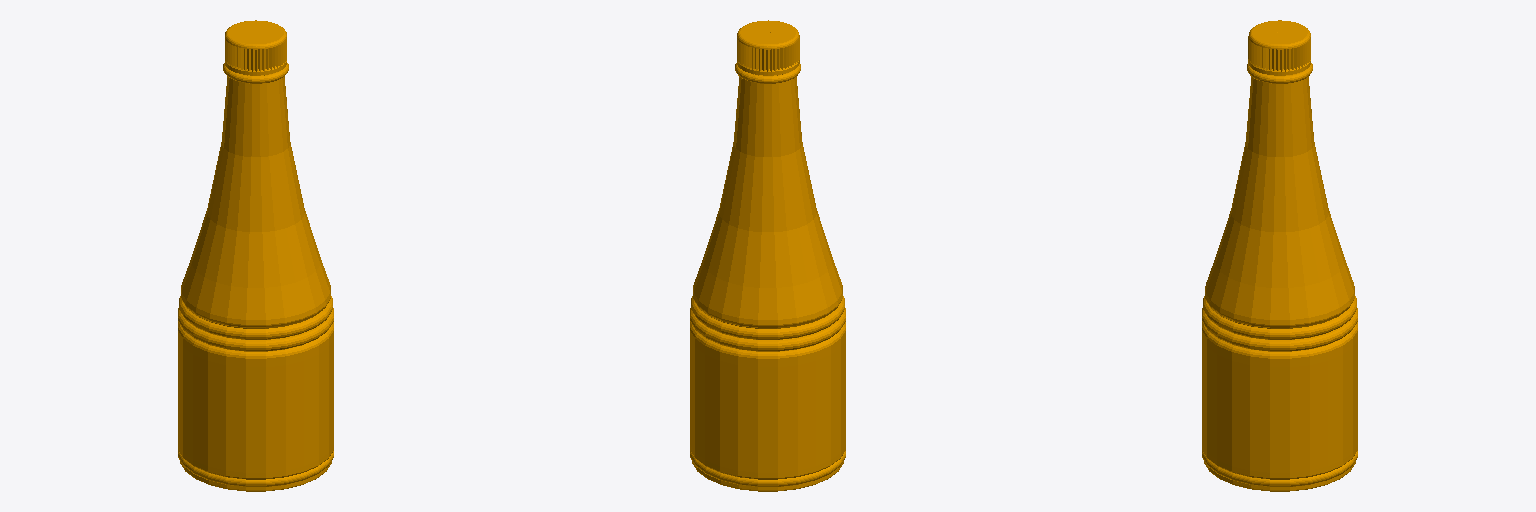
The robot description file, URDF, robot "obj_10":
<?xml version="1.0"?>
<robot name="obj_10">
  <link name="obj_10">
    <visual>
      <origin xyz="0.0 0.0 0.0" rpy="0 0 0"/>
      <geometry>
        <mesh filename="../mesh/ncf_mug_cupholder/obj_assets/10/obj_collision.obj" scale="1 1 1"/>
      </geometry>
    </visual>
    <collision>
      <origin xyz="0.0 0.0 0.0" rpy="0 0 0"/>
      <geometry>
        <mesh filename="../mesh/ncf_mug_cupholder/obj_assets/10/obj_collision.obj" scale="1 1 1"/>
      </geometry>
      <sdf resolution="512"/>
    </collision >    
    <inertial>
      <mass value="0.102"/>
      <inertia ixx="0.0001" ixy="0.0" ixz="0.0" iyy="0.0001" iyz="0.0" izz="0.0001"/>
    </inertial>
  </link>
</robot>

--- Render facts (derived) ---
Views: 3 orthographic renders of the robot side by side, from view 1: azimuth 30°, elevation 25°; view 2: azimuth 150°, elevation 25°; view 3: azimuth 270°, elevation 25°.
Robot: obj_10 — 1 links, 0 joints (none); root link obj_10; default pose: every joint at zero.
Links seen in each view (by area): view 1: obj_10; view 2: obj_10; view 3: obj_10.
Boxes of the visible links, <box> form: obj_10: <box>178,20,333,491</box>; obj_10: <box>690,20,845,491</box>; obj_10: <box>1202,20,1357,491</box>.
Size in the robot's own frame: 0.0541 by 0.0541 by 0.1629 metres.
1 mesh visuals loaded from 1 distinct referenced files (1 OBJ).